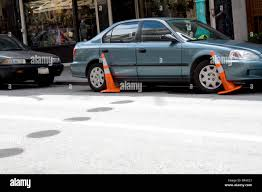car: (71, 18, 262, 90), (1, 34, 64, 84)
cone: (212, 49, 232, 95), (100, 53, 120, 95)
